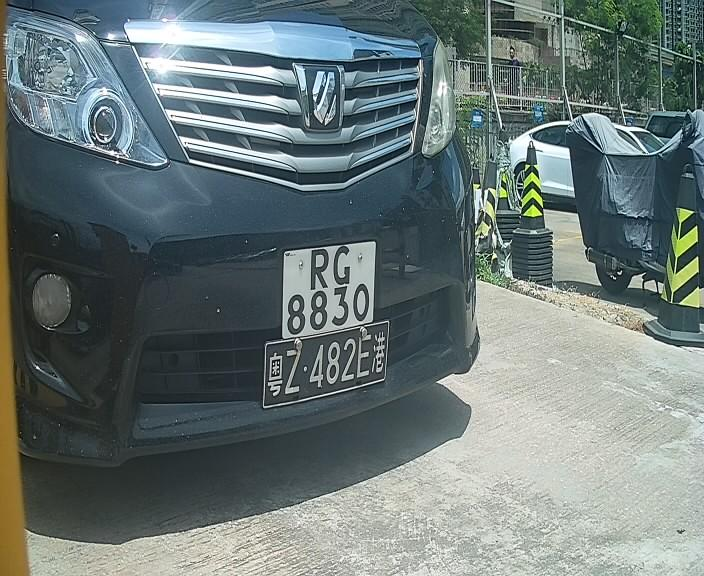Car: (1, 8, 516, 499)
License Plate: (277, 232, 381, 350)
